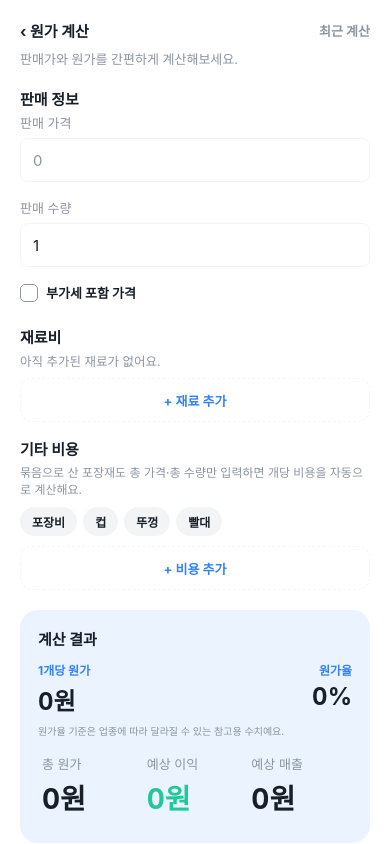
Test case: CostScreen › adds an additional cost from a suggestion chip prefilled with unit 개 and qty 1
The image size is (390, 844).
What coordinates should you click on to do the following:
click the element with test id "add-additional-suggestion-컵"
I would click on:
 (101, 522)
Its box is x1=83 y1=507 x2=118 y2=536.
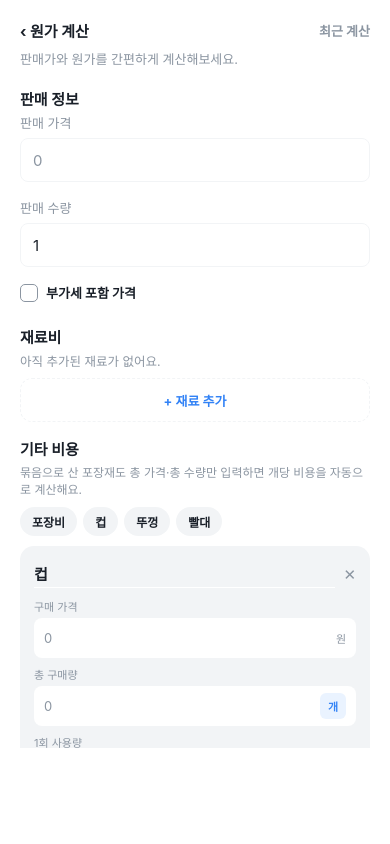
Now the field showing "컵" below "포장비" is shown, box x1=34 y1=560 x2=335 y2=588
